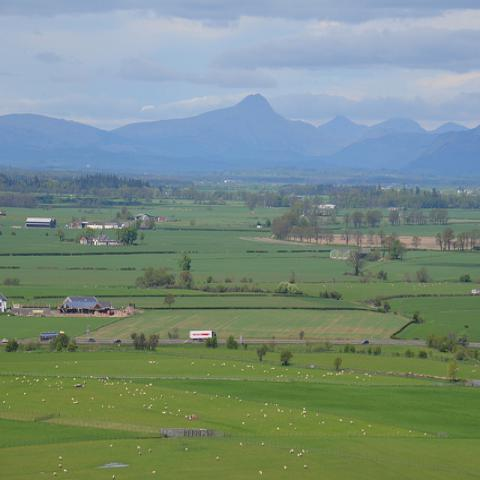car: (362, 340, 369, 346), (113, 339, 122, 343), (88, 338, 96, 342)
truck: (189, 329, 219, 340)
